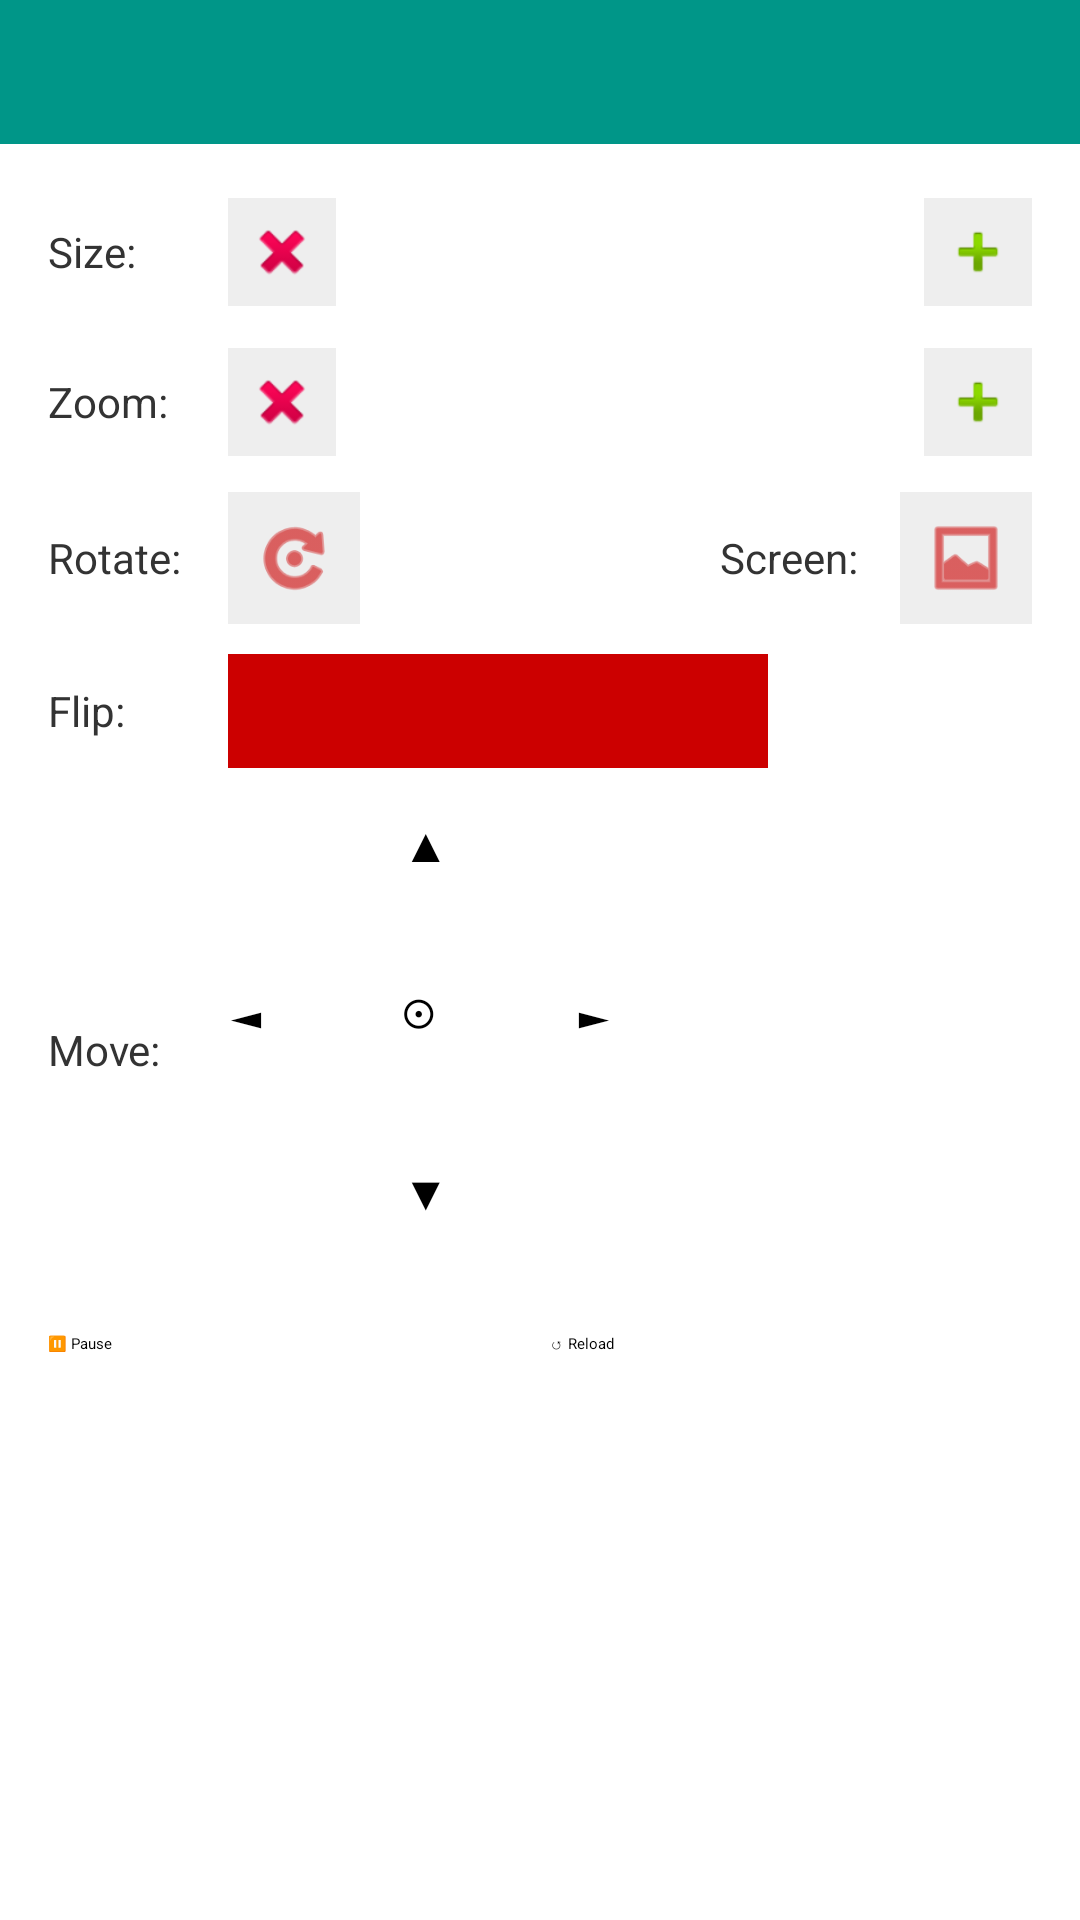

Screen size 1080w x 1920h. Icon name, then its box in pixels as [x1, y1, x2, y2]:
add: [924, 198, 1032, 306], [924, 348, 1032, 456]
delete: [259, 230, 305, 275], [259, 380, 305, 425]
gallery: [934, 526, 998, 590]
